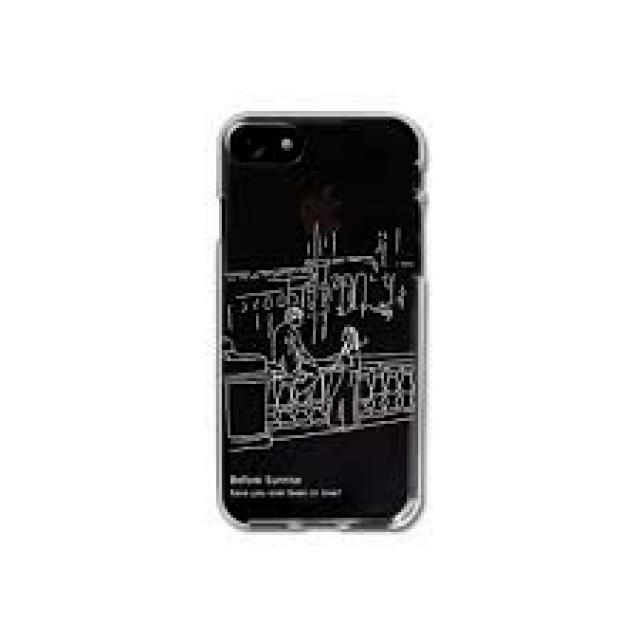lens_back: (229, 126, 271, 164)
phone: (212, 104, 432, 540)
